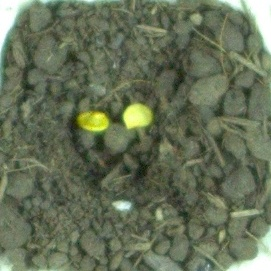pepper seed: (45, 36, 199, 167), (20, 43, 131, 176)
